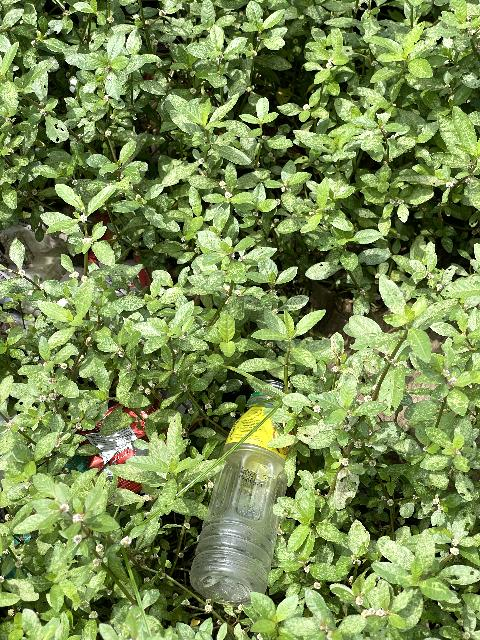bottle: (177, 368, 327, 619)
